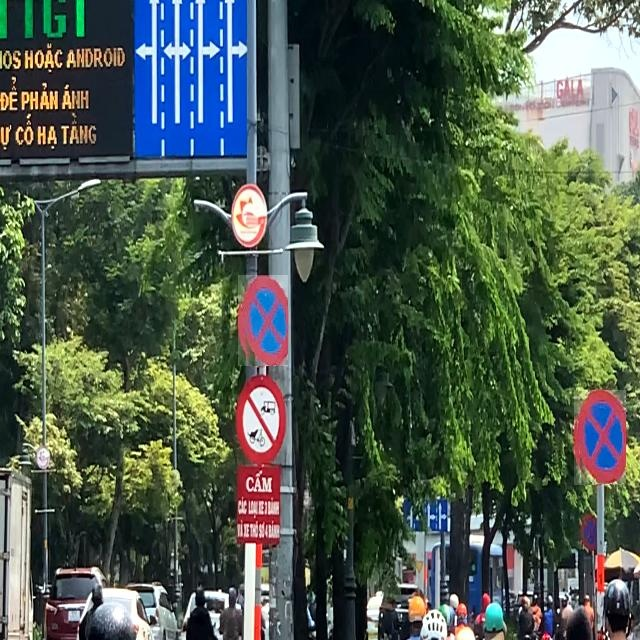bien_hieu_lenh: (574, 390, 626, 485), (238, 275, 288, 366)
